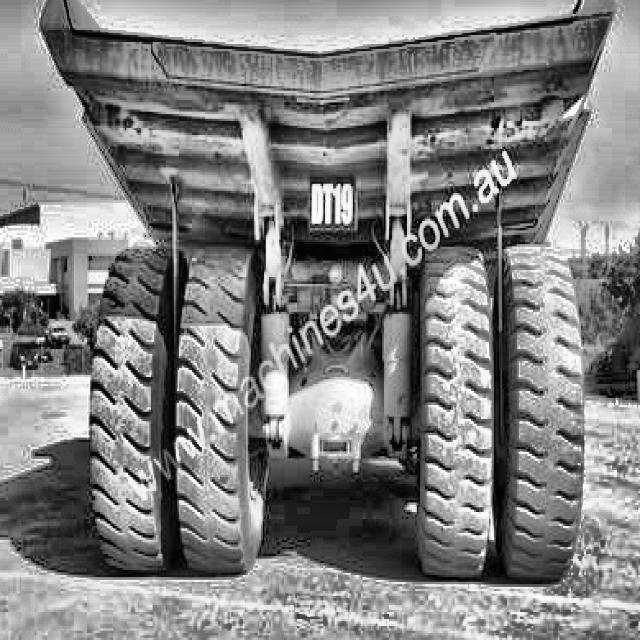dump_truck: (41, 0, 635, 612)
